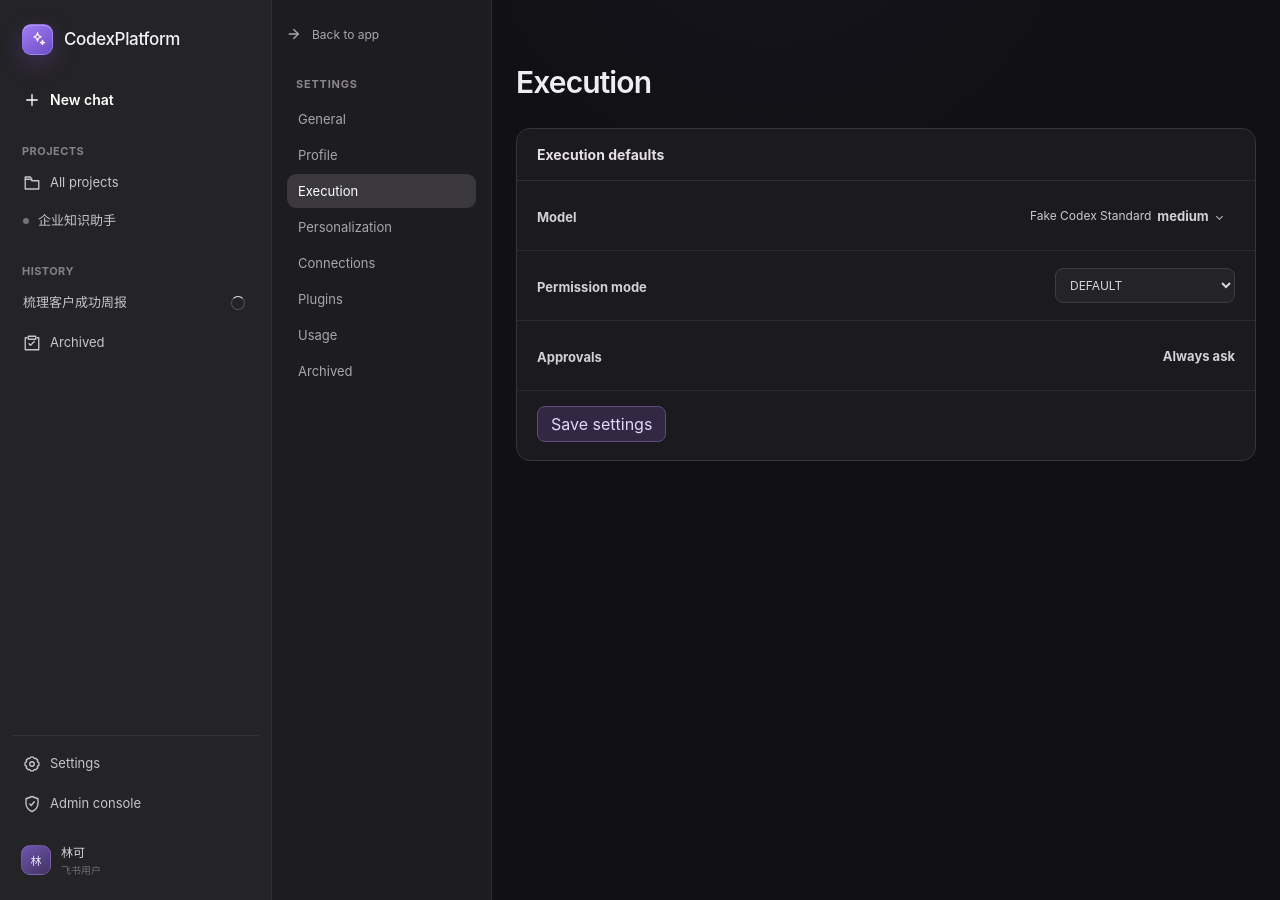
Scenario: CodexPlatform 1.1 personal settings › shows a save failure instead of silently discarding personal settings
The width and height of the screenshot is (1280, 900).
Expected: the button with aria-label "Model and Effort: Fake Codex Standard · medium" is shown, [1019,200,1235,232]
Click the button "Save settings" at (602, 424), box [537,406,666,442]
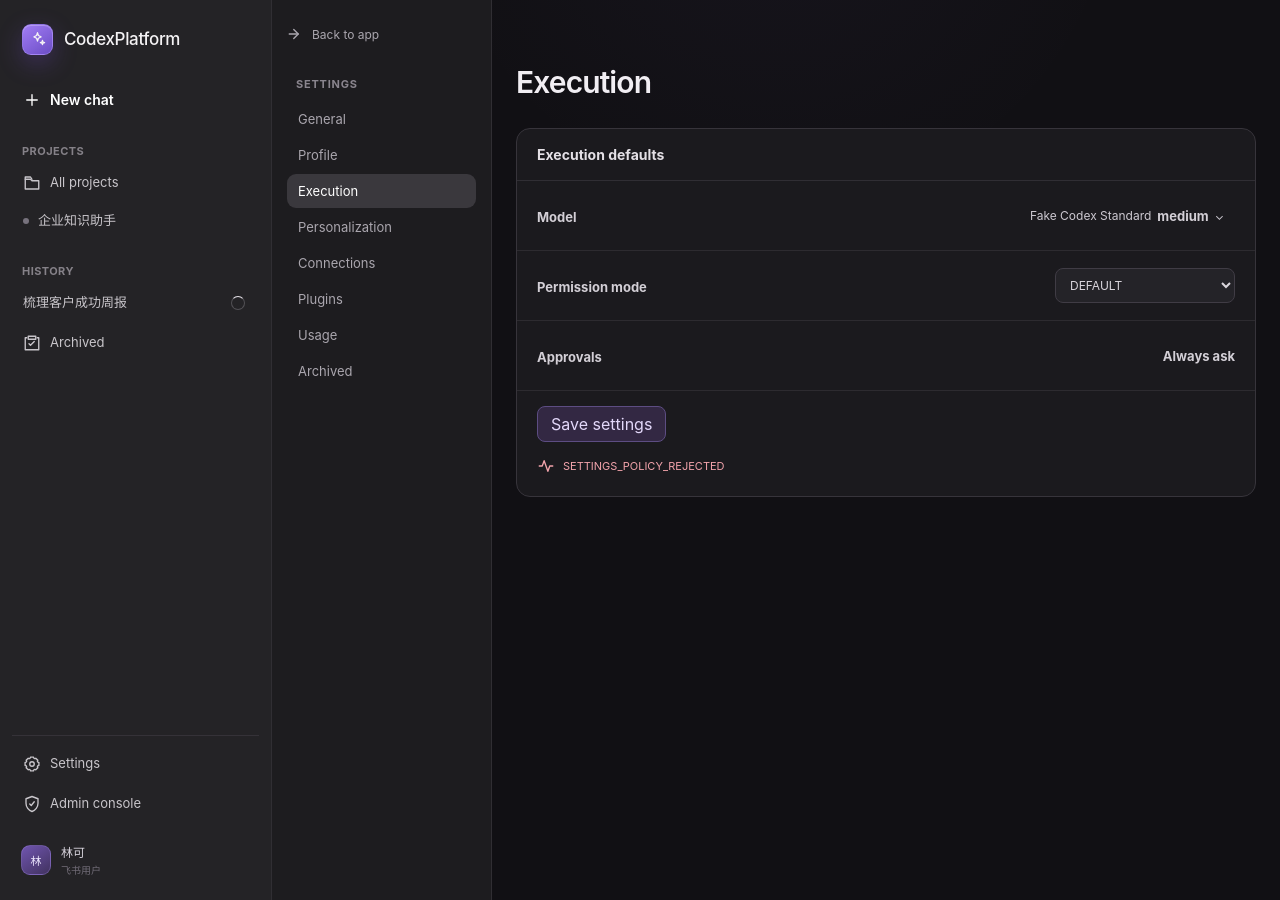
Now the message "SETTINGS_POLICY_REJECTED" is shown, box [537,457,724,475]
